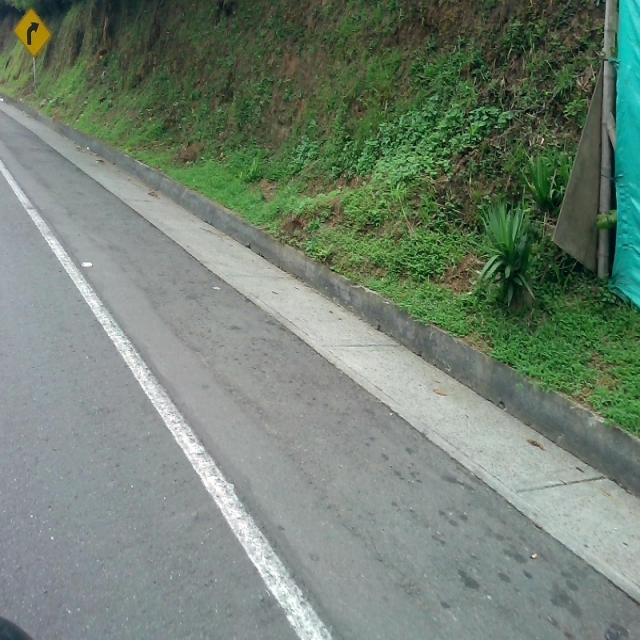DITCH: (1, 96, 639, 638), (1, 130, 639, 638)
